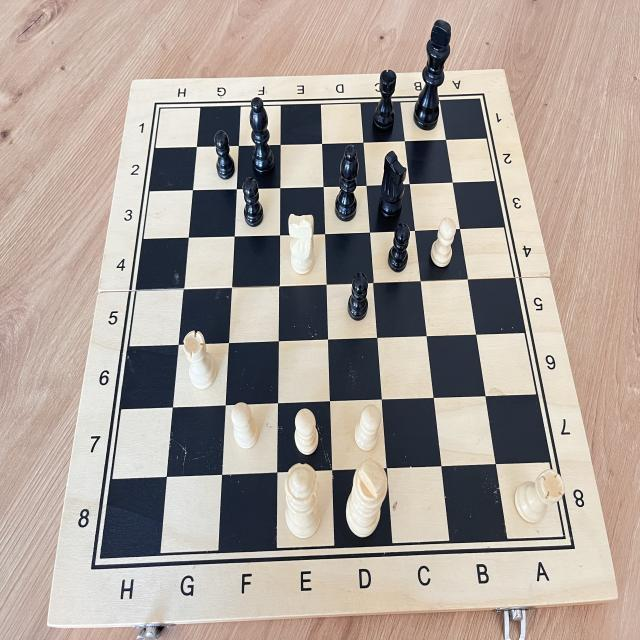black-bishop: (242, 88, 282, 186), (328, 136, 364, 230)
black-king: (407, 16, 456, 138)
black-knight: (373, 146, 409, 223)
black-pawn: (208, 124, 238, 185), (383, 219, 415, 276), (342, 266, 372, 324), (238, 171, 267, 230)
black-rook: (369, 64, 400, 140)
white-bishop: (280, 204, 319, 278)
white-king: (338, 453, 393, 544)
white-pawn: (226, 395, 264, 454), (350, 400, 384, 458), (424, 215, 458, 272), (290, 404, 323, 458)
white-queen: (275, 456, 325, 544)
white-rook: (509, 462, 571, 536), (176, 325, 225, 395)
